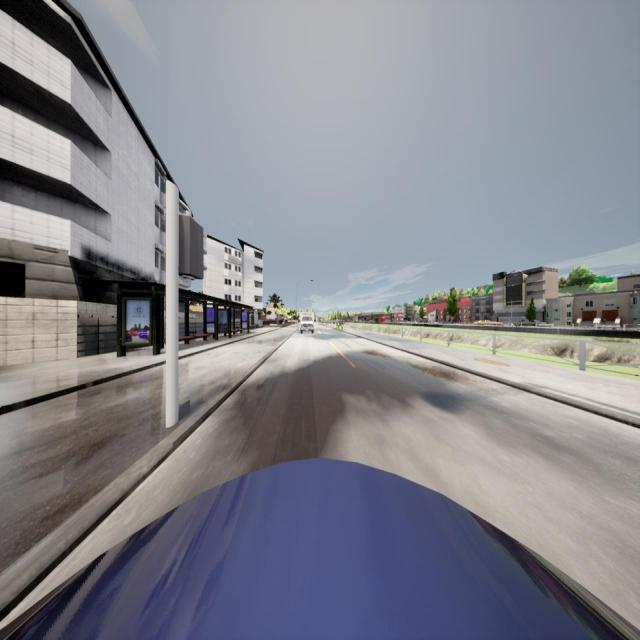Vehicle: (1, 457, 640, 638), (298, 312, 316, 334), (513, 319, 554, 327), (474, 319, 504, 326)
traffic_light: (178, 200, 206, 293)
